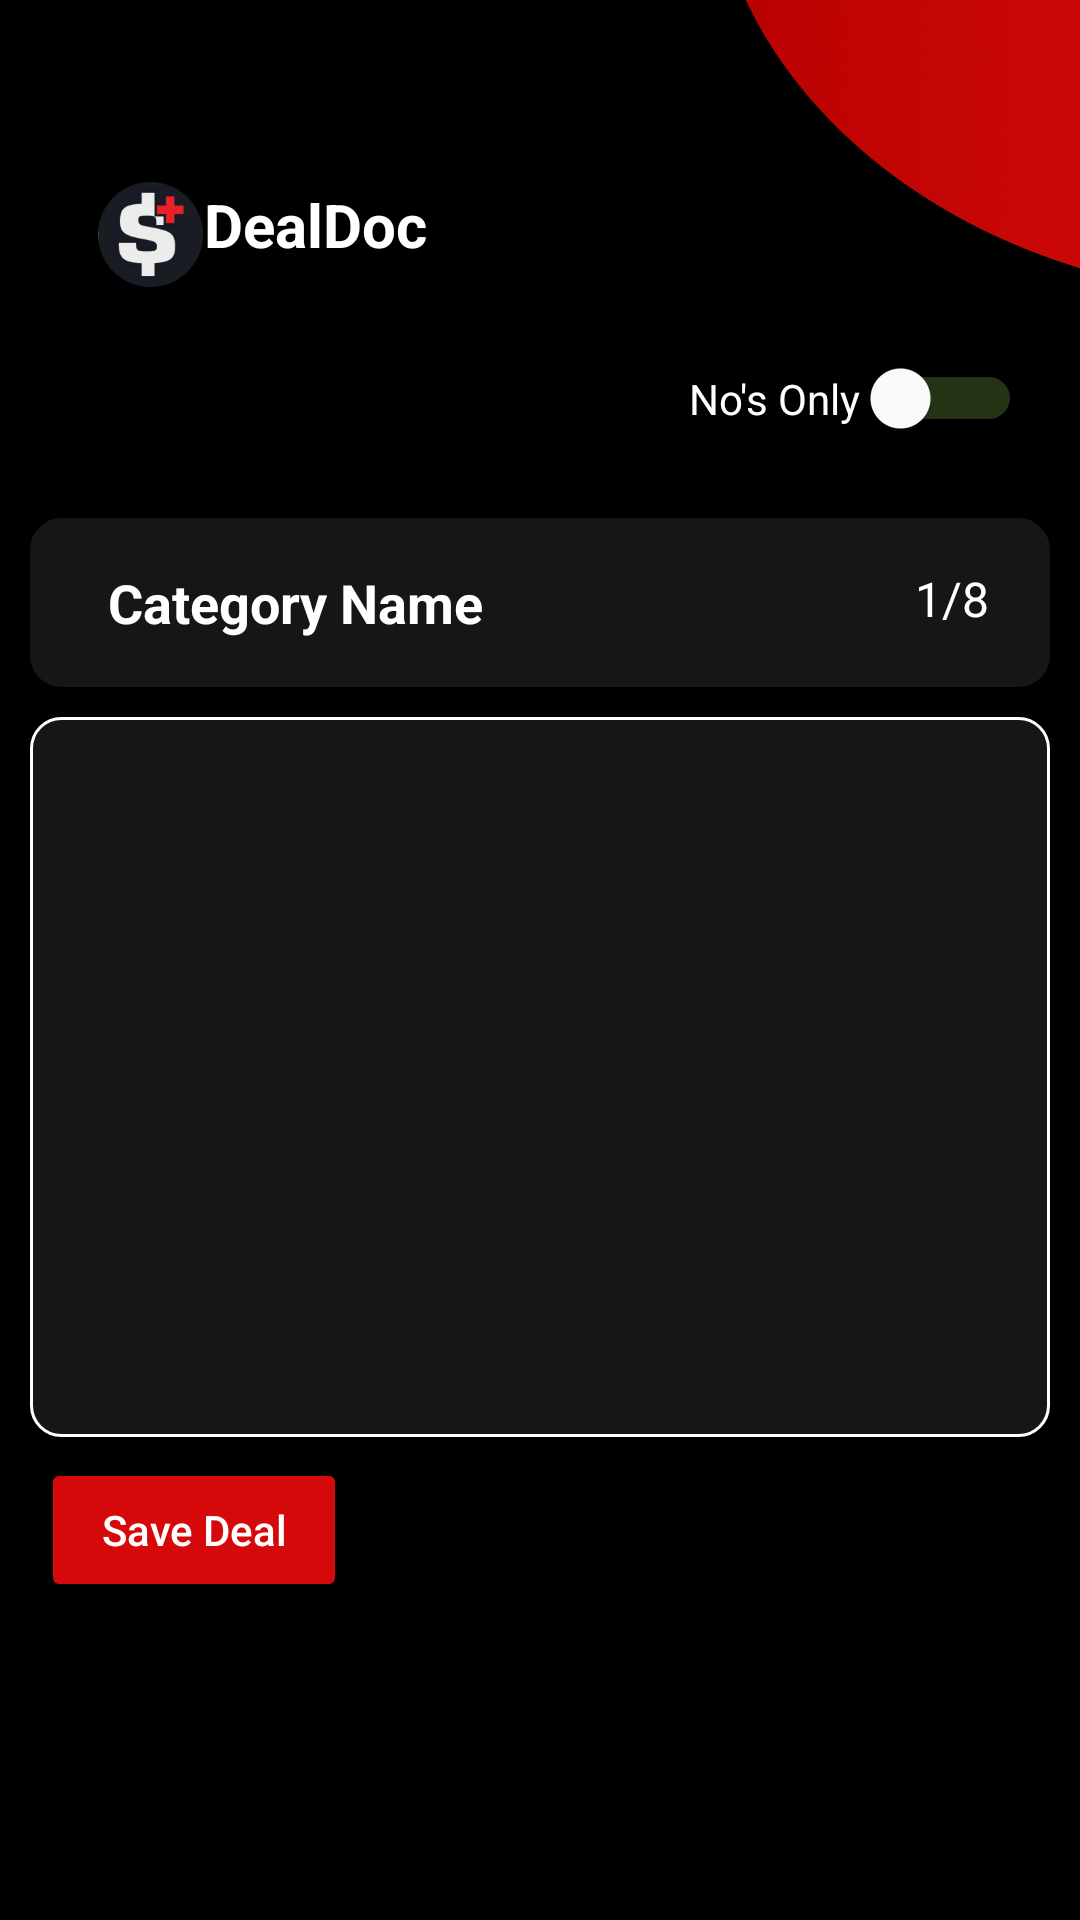

Locate icon controls on the screen. Image size 1080px x 1920px, boxes as (x1, y1, x2, y2).
dollar: (98, 182, 203, 287)
